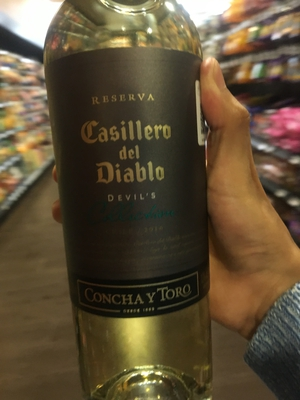casillero del diablo devils collection verde: (35, 6, 219, 400)
